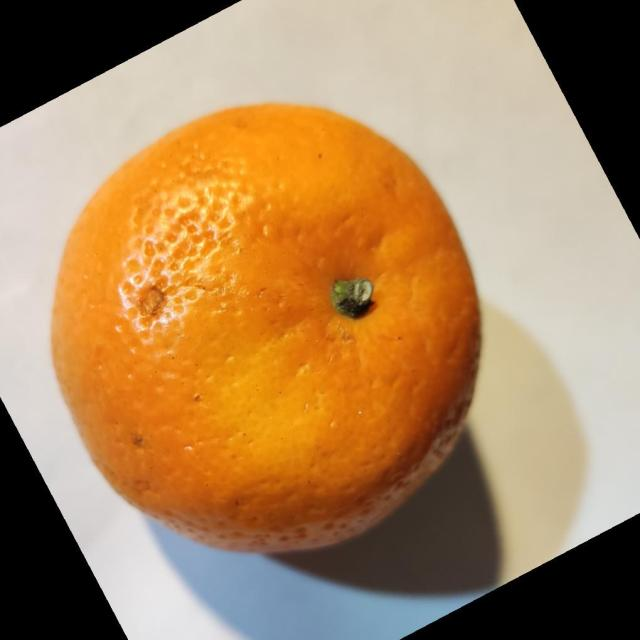fresh orange: (49, 101, 483, 555)
